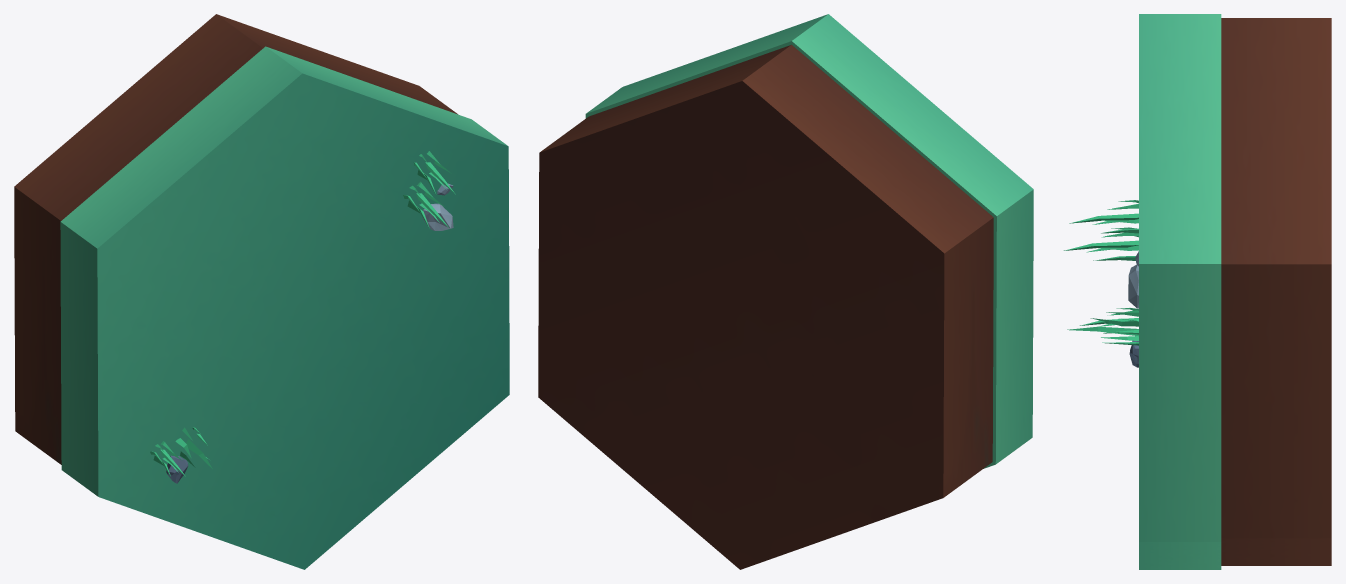
Rendered from WIESE_2.fbx.
The picture shows the model from 3 angles, left to right: view 1: azimuth 30°, elevation 25°; view 2: azimuth 150°, elevation 25°; view 3: azimuth 270°, elevation 25°; orthographic projection. The views are drawn at different scales.
Visible parts, largest first — view 1: WIESE_2; view 2: WIESE_2; view 3: WIESE_2.
Boxes of the visible parts, x1,y1,x2,y2 form: WIESE_2: (14, 14, 509, 569); WIESE_2: (538, 14, 1033, 569); WIESE_2: (1063, 14, 1331, 569).
Bounding box in the file's own units: 173 × 199 × 87.43.
